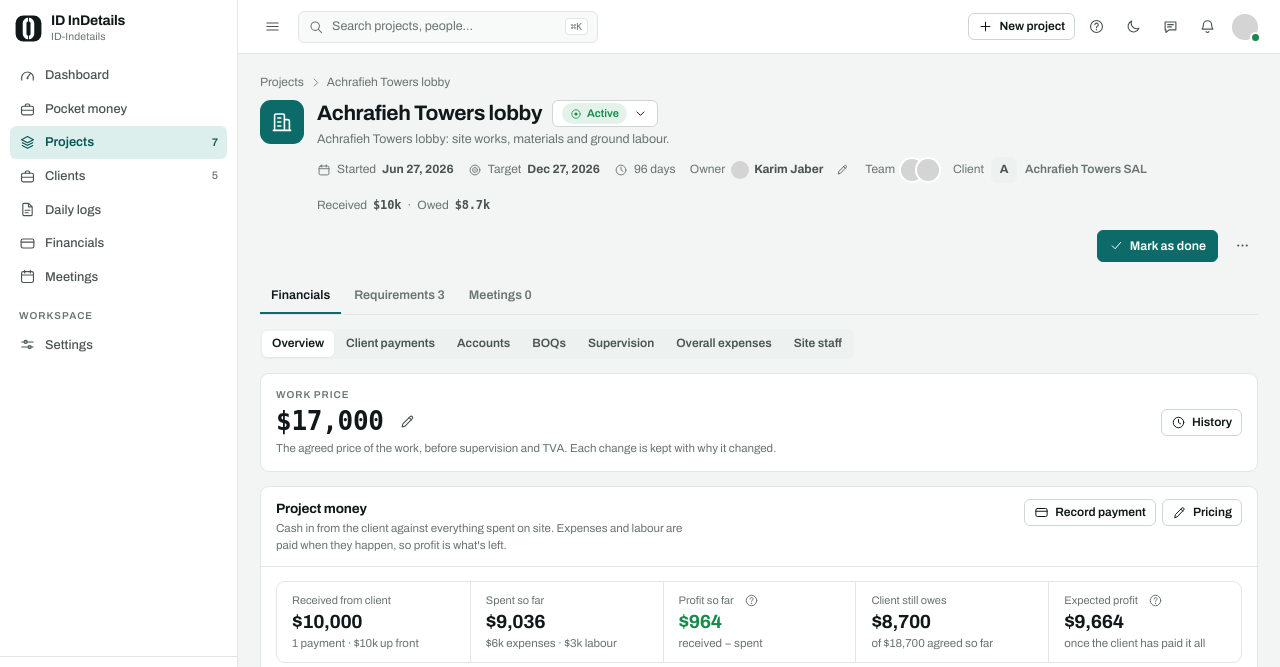
Test: an Execution site's overview › lists the site's money actions in the menu
Click the button named "More actions": [1242, 246] box [1226,230,1258,262]
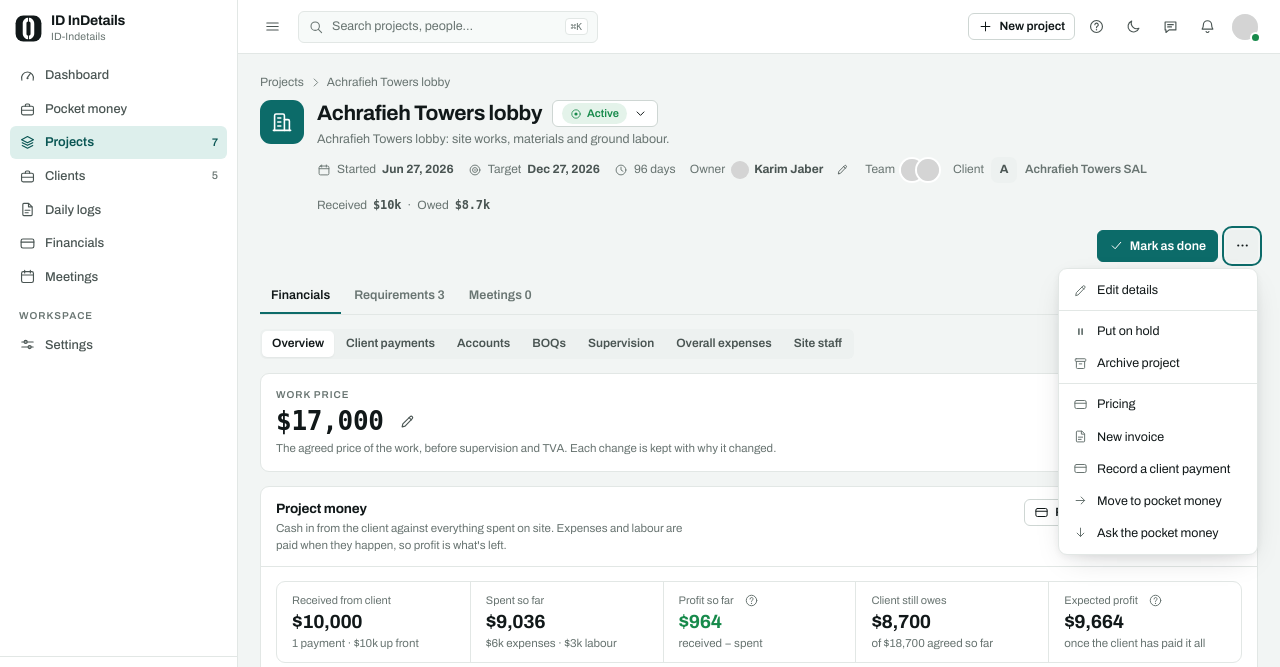
expect the button "Pricing" is shown: met, box [1064,388,1252,420]
expect the button "New invoice" is shown: met, box [1064,420,1252,453]
expect the button "Record a client payment" is shown: met, box [1064,453,1252,485]
